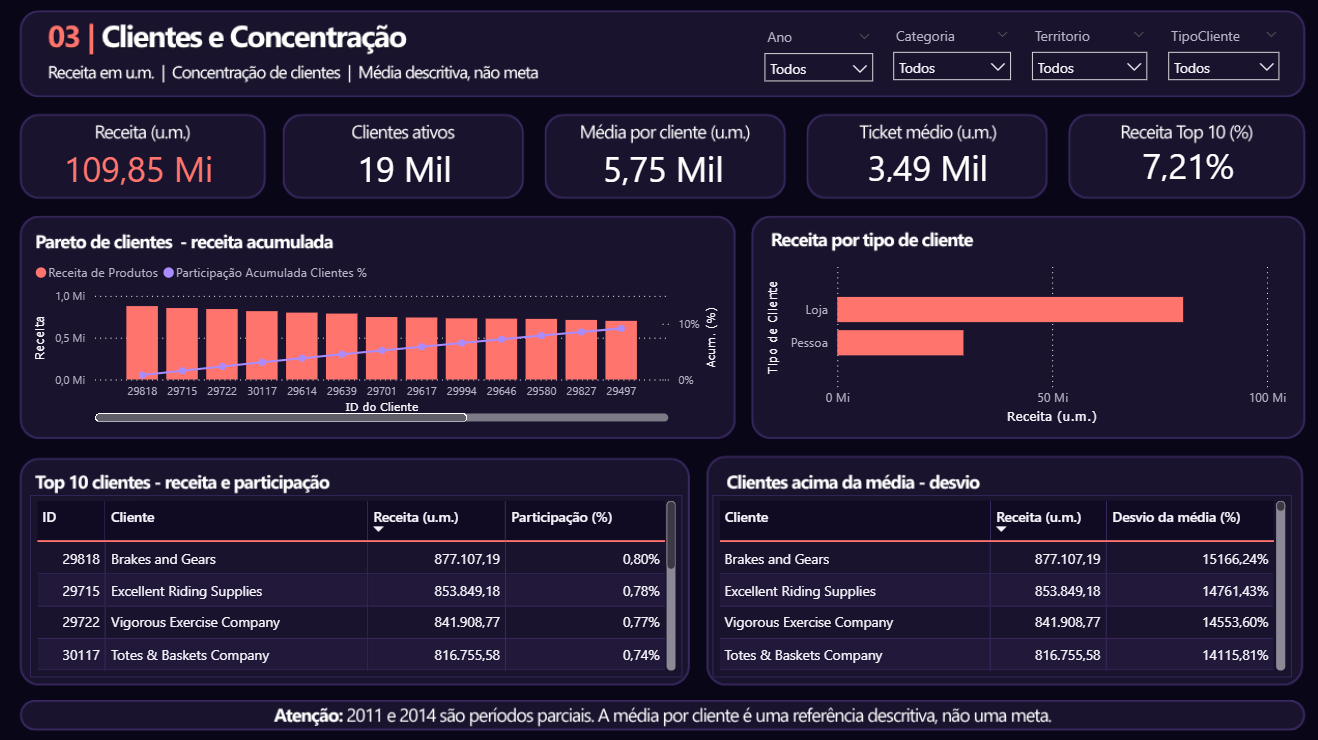

What the dashboard file says about the page in this screenshot:
{"tool":"powerbi","page":{"name":"03 | Clientes e Concentração","canvas":[1280,720],"ordinal":2},"visuals":[{"type":"slicer","fields":{"Values":["DimCalendario.Ano"]},"box":[727.5,21.2,125,65],"z":0},{"type":"slicer","fields":{"Values":["DimTerritorio.Territorio"]},"box":[985.8,20.7,131.5,65.1],"z":1000},{"type":"slicer","fields":{"Values":["DimCliente.TipoCliente"]},"box":[1117.3,20.7,127.9,65.1],"z":2000},{"type":"slicer","fields":{"Values":["DimProduto.Categoria"]},"box":[851.9,20.7,133.9,65.1],"z":3000},{"type":"card","title":"Receita (u.m.)","fields":{"Values":["Medidas.Receita de Produtos"]},"box":[15,142.5,238.8,41.2],"z":4000},{"type":"card","title":"Clientes ativos","fields":{"Values":["Medidas.Clientes Ativos"]},"box":[275,142,231,41],"z":5000},{"type":"card","title":"Ticket (u.m.)","fields":{"Values":["Medidas.Ticket Médio"]},"box":[781,143,230,37],"z":6000},{"type":"card","title":"Média por cliente (u.m.)","fields":{"Values":["Medidas.Receita Média Cliente"]},"box":[522,143,236,40],"z":7000},{"type":"card","title":"Top 10 / receita","fields":{"Values":["Medidas.Participação Top 10 Clientes %"]},"box":[1034.3,141.4,225.7,38.6],"z":8000},{"type":"tableEx","title":"Top 10 clientes — receita decrescente","fields":{"Values":["DimCliente.CustomerID","DimCliente.NomeCliente","Medidas.Receita de Produtos","Medidas.Participação Receita Cliente %"]},"box":[28.6,477.9,629.3,175.7],"z":10000},{"type":"lineClusteredColumnComboChart","title":"Pareto de clientes — acumulado em ordem de receita","fields":{"Category":["DimCliente.CustomerID"],"Y":["Medidas.Receita de Produtos"],"Y2":["Medidas.Participação Acumulada Clientes %"]},"box":[28.6,244.3,670,168.6],"z":11000},{"type":"barChart","title":"Receita por tipo de cliente","fields":{"Category":["DimCliente.TipoCliente"],"Y":["Medidas.Receita de Produtos"]},"box":[735.6,244.4,511.1,168.9],"z":12000},{"type":"tableEx","title":"Clientes acima da média — mesmo universo","fields":{"Values":["DimCliente.NomeCliente","Medidas.Receita de Produtos","Medidas.Desvio Receita Cliente vs Média %"]},"box":[687.9,477.9,559.3,175.7],"z":13000}]}

Visuals, with their boxes in screenshot pixels (x1, y1, x2, y2), scaled from the page's 1280x720 canvas onto the 1318x740 screenshot:
slicer - DimCalendario.Ano: <box>749,22,878,89</box>
slicer - DimTerritorio.Territorio: <box>1015,21,1150,88</box>
slicer - DimCliente.TipoCliente: <box>1150,21,1282,88</box>
slicer - DimProduto.Categoria: <box>877,21,1015,88</box>
"Receita (u.m.)" card: <box>15,146,261,189</box>
"Clientes ativos" card: <box>283,146,521,188</box>
"Ticket (u.m.)" card: <box>804,147,1041,185</box>
"Média por cliente (u.m.)" card: <box>537,147,781,188</box>
"Top 10 / receita" card: <box>1065,145,1297,185</box>
"Top 10 clientes — receita decrescente" tableEx: <box>29,491,677,672</box>
"Pareto de clientes — acumulado em ordem de receita" lineClusteredColumnComboChart: <box>29,251,719,424</box>
"Receita por tipo de cliente" barChart: <box>757,251,1284,425</box>
"Clientes acima da média — mesmo universo" tableEx: <box>708,491,1284,672</box>
